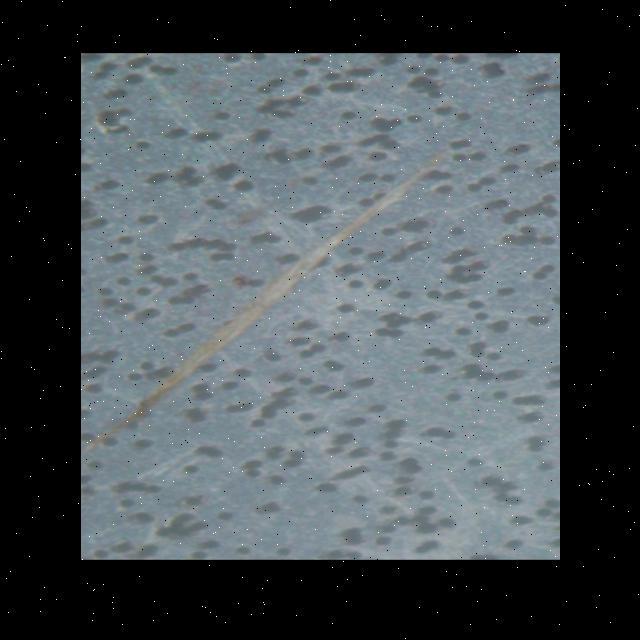Fibre: (80, 156, 458, 458)
